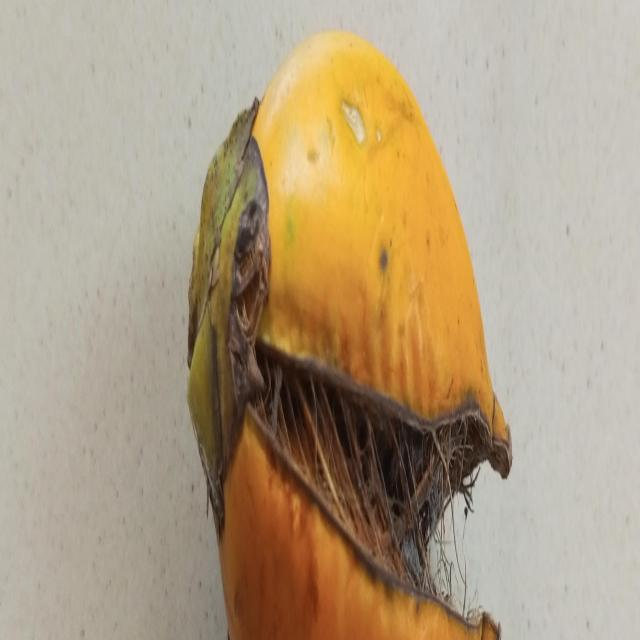damaged: (187, 30, 514, 640)
